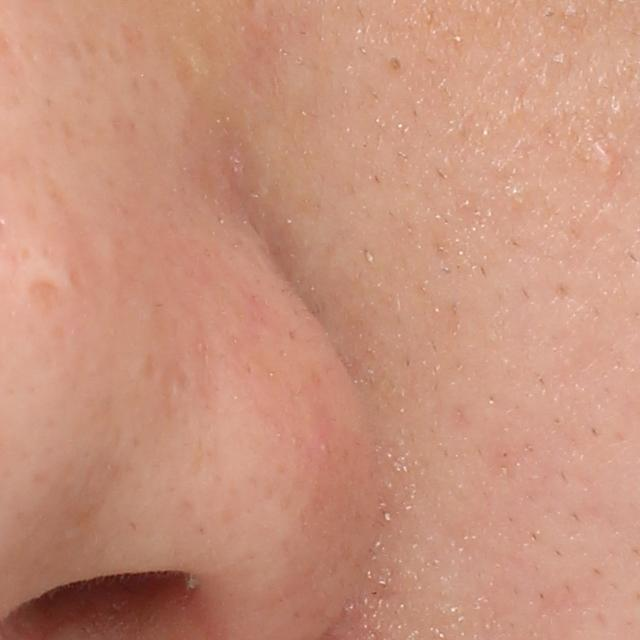atrophic_scar: (29, 281, 66, 314)
comedo: (593, 142, 620, 182), (385, 51, 406, 74)
